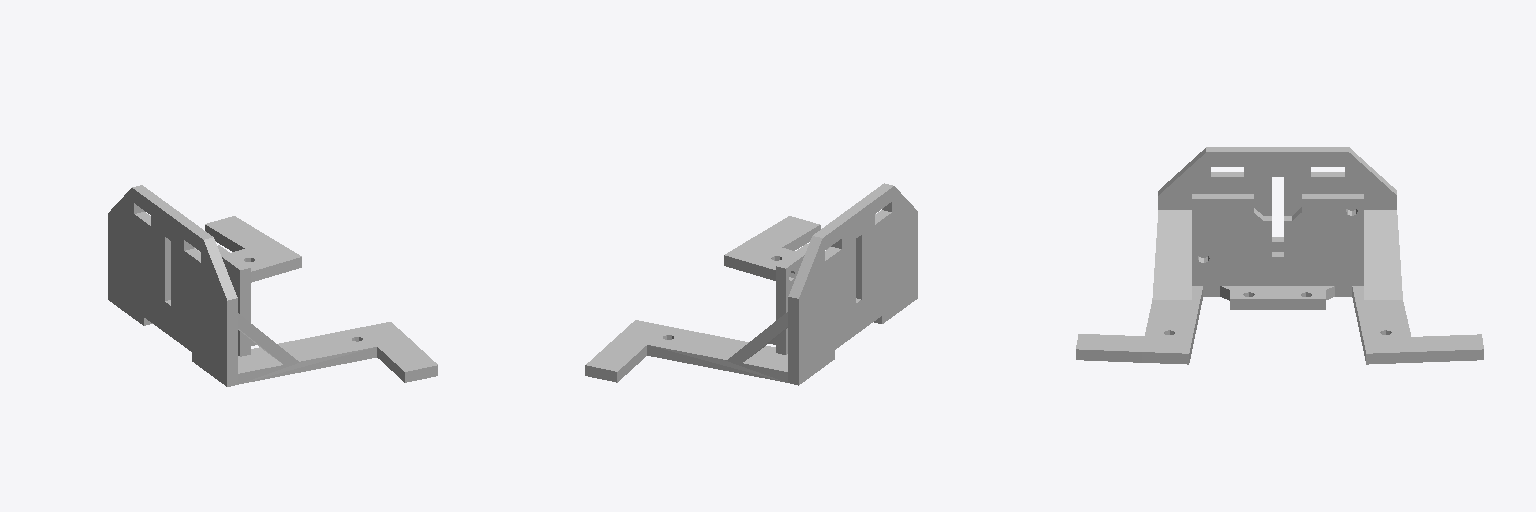
Rendered from outward.obj.
The picture shows the model from 3 angles: view 1: azimuth 30°, elevation 25°; view 2: azimuth 150°, elevation 25°; view 3: azimuth 270°, elevation 25°; orthographic projection.
Parts seen in each view (by area): view 1: BOEBOT_Mount_V1; view 2: BOEBOT_Mount_V1; view 3: BOEBOT_Mount_V1.
Boxes of the visible parts, x1,y1,x2,y2 form: BOEBOT_Mount_V1: [108, 185, 437, 386]; BOEBOT_Mount_V1: [585, 183, 917, 385]; BOEBOT_Mount_V1: [1076, 147, 1483, 364].
Size of the model in its own units: 2.16 by 1.5 by 4.27.